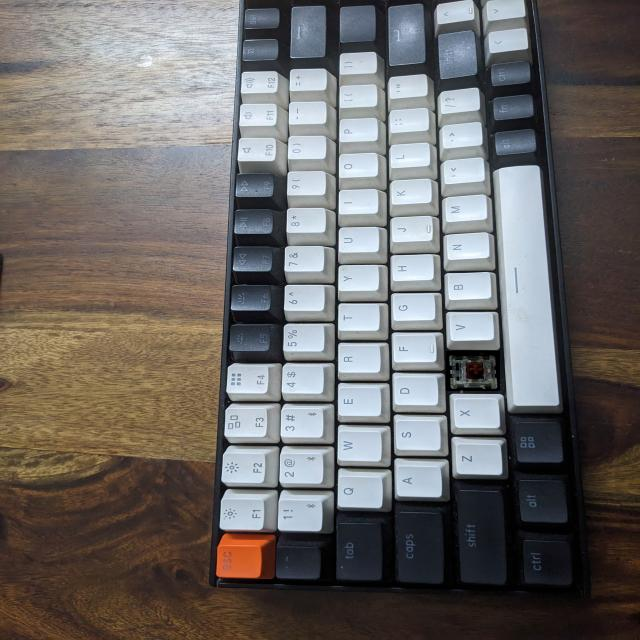C: (446, 352, 500, 392)
